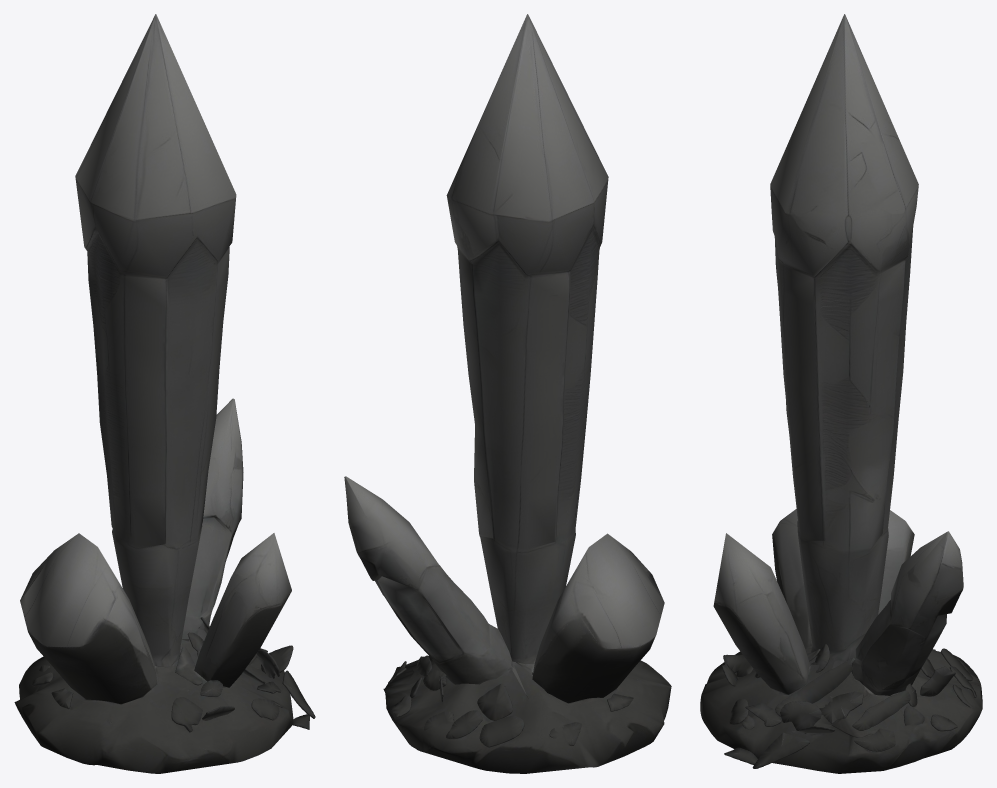
File: crystal-spire.glb
3 views of the same model, side by side, from view 1: azimuth 30°, elevation 25°; view 2: azimuth 150°, elevation 25°; view 3: azimuth 270°, elevation 25° (orthographic).
Visible parts, largest first — view 1: tripo_node_f7887700-d531-411d-8624-a47fe517005a; view 2: tripo_node_f7887700-d531-411d-8624-a47fe517005a; view 3: tripo_node_f7887700-d531-411d-8624-a47fe517005a.
Boxes of the visible parts, x1,y1,x2,y2 form: tripo_node_f7887700-d531-411d-8624-a47fe517005a: [14, 14, 315, 773]; tripo_node_f7887700-d531-411d-8624-a47fe517005a: [344, 14, 671, 773]; tripo_node_f7887700-d531-411d-8624-a47fe517005a: [700, 14, 982, 773].
Bounding box in the file's own units: 0.3853 × 0.9995 × 0.3628.
Materials: 1 (1 with a texture image).
